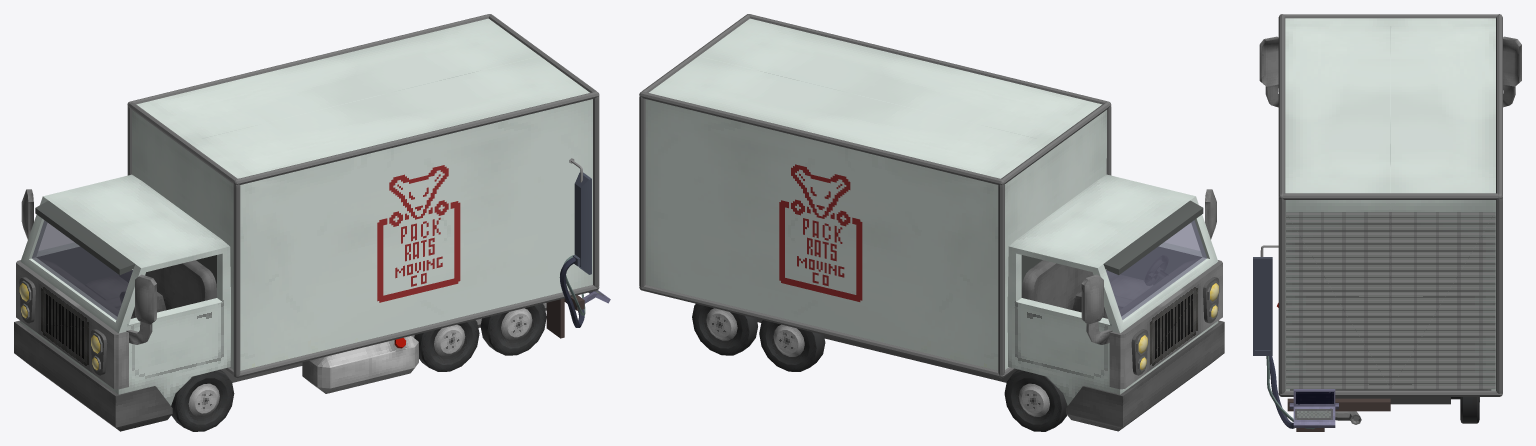
Rendered from truck4.glb.
3 views of the same model, side by side, from view 1: azimuth 30°, elevation 25°; view 2: azimuth 150°, elevation 25°; view 3: azimuth 270°, elevation 25° (orthographic). The views are drawn at different scales.
Parts seen in each view (by area): view 1: packratsLOGO.005; view 2: packratsLOGO.005; view 3: packratsLOGO.005.
Part boxes in pixels (x1,y1,x2,y2): packratsLOGO.005: (14,14,610,431); packratsLOGO.005: (639,14,1224,431); packratsLOGO.005: (1253,14,1521,431).
Bounding box in the file's own units: 34.09 × 16.43 × 15.35.
Materials: 20 (11 with a texture image).
